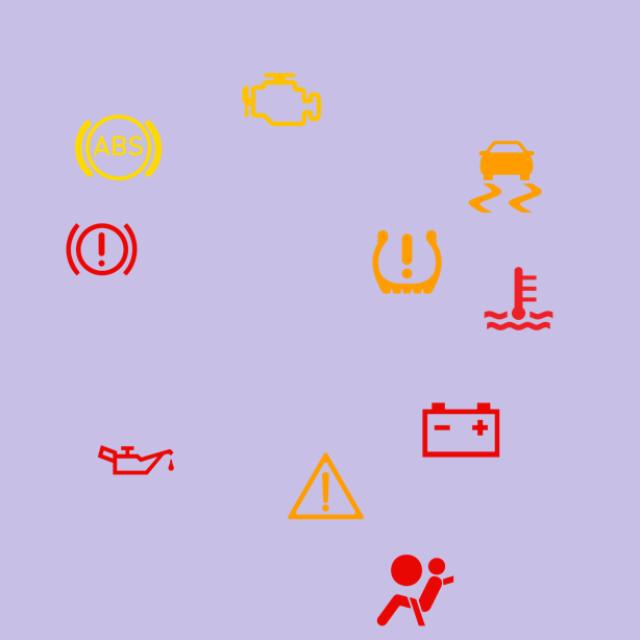Anti Lock Braking System: (71, 100, 166, 195)
Braking System Issue: (54, 202, 149, 297)
Charging System Issue: (414, 382, 508, 478)
Check Engine: (234, 52, 330, 147)
Electronic Stability Problem -ESP-: (458, 129, 552, 224)
Engine Overheating Warning Light: (471, 251, 566, 346)
Low Engine Oil Warning Light: (88, 412, 184, 508)
Low Tire Pressure Warning Light: (360, 214, 454, 310)
Master warning light: (278, 439, 373, 534)
SRS-Airbag: (368, 543, 463, 638)
